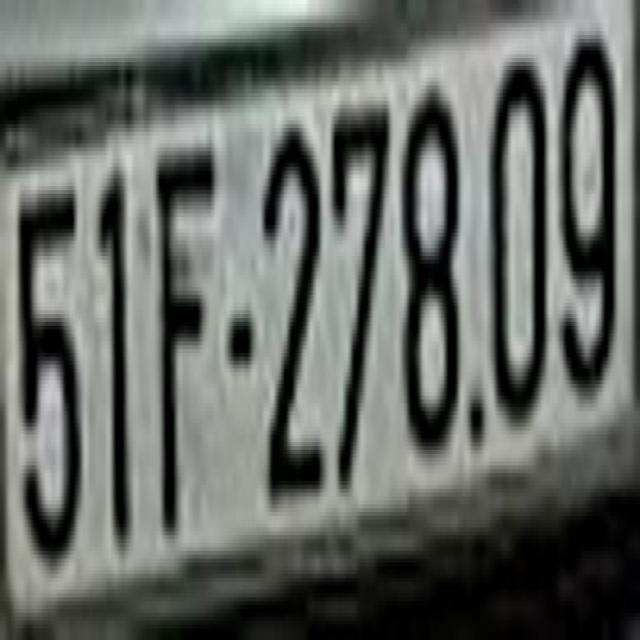0: (493, 62, 547, 423)
1: (95, 162, 132, 562)
2: (259, 101, 326, 512)
5: (14, 170, 82, 570)
7: (332, 97, 392, 516)
8: (399, 74, 462, 474)
9: (558, 31, 618, 411)
F: (154, 132, 214, 543)
